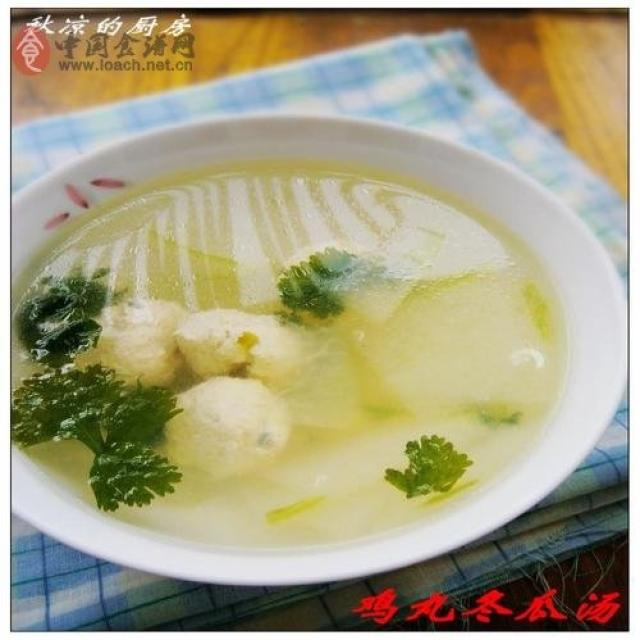汤锅炖物: (27, 117, 581, 554)
